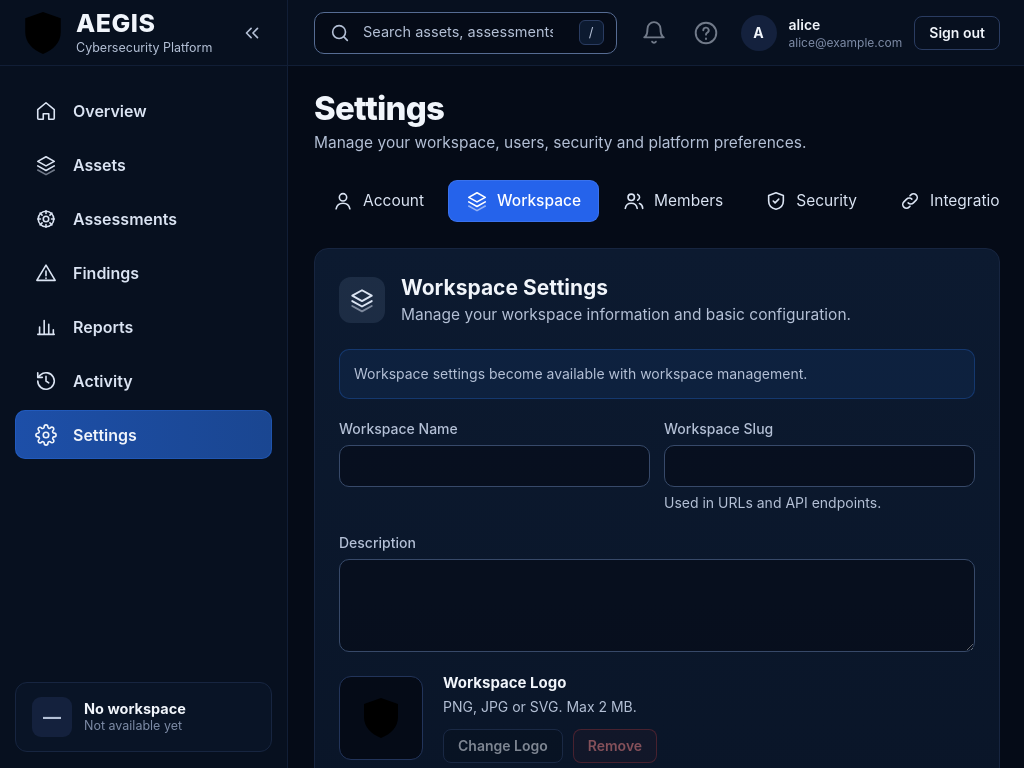
Scenario: profile › rejects an invalid username before sending anything
This screenshot has width=1024, height=768.
Click the tab "Account": (378, 201) x1=314 y1=180 x2=442 y2=222
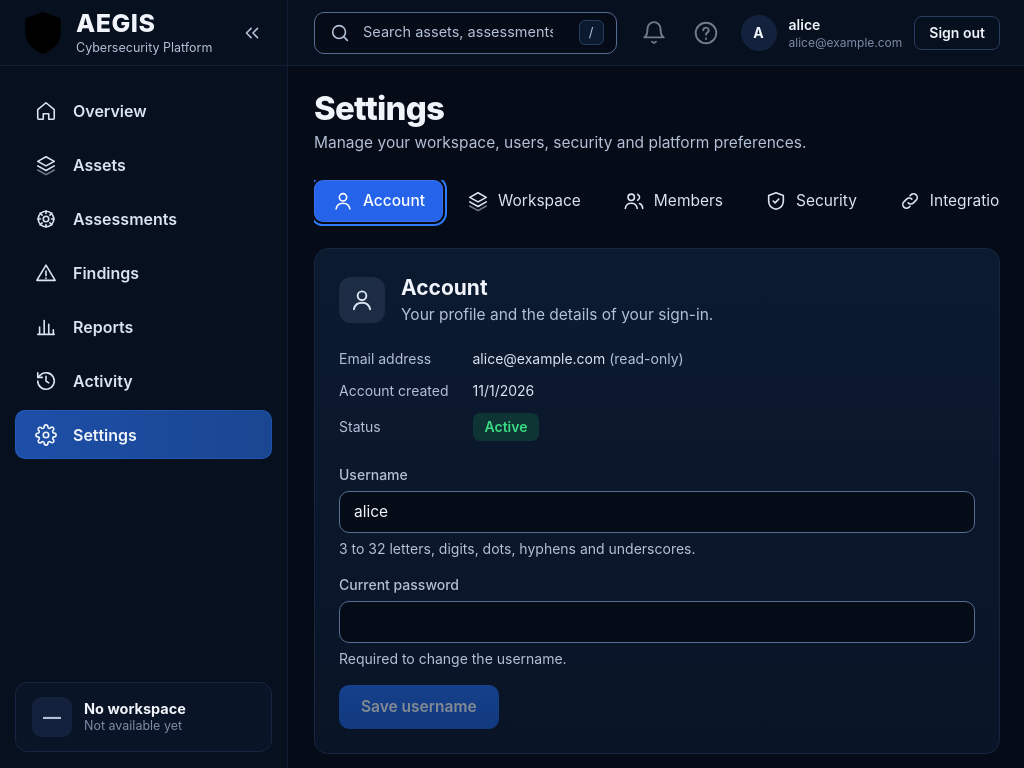
Replace the text in the field labelled "Username" with "a!": (657, 512) x1=339 y1=491 x2=975 y2=533
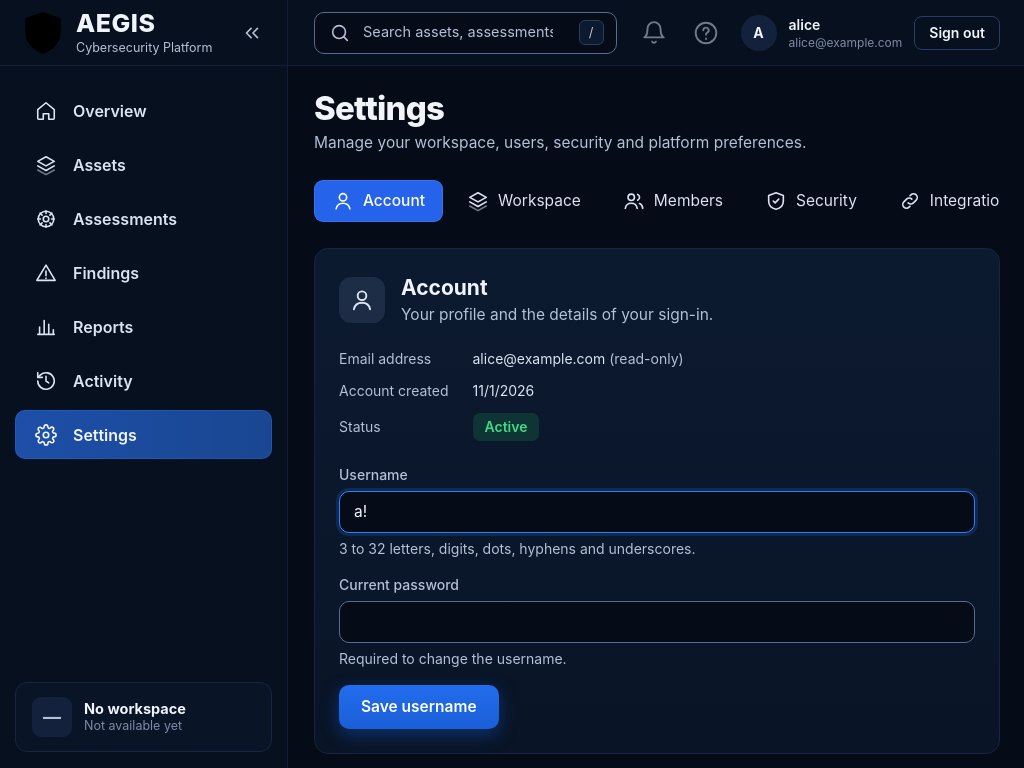
In the password field labelled "Current password": (657, 622) x1=339 y1=601 x2=975 y2=643, type "correct horse battery staple"
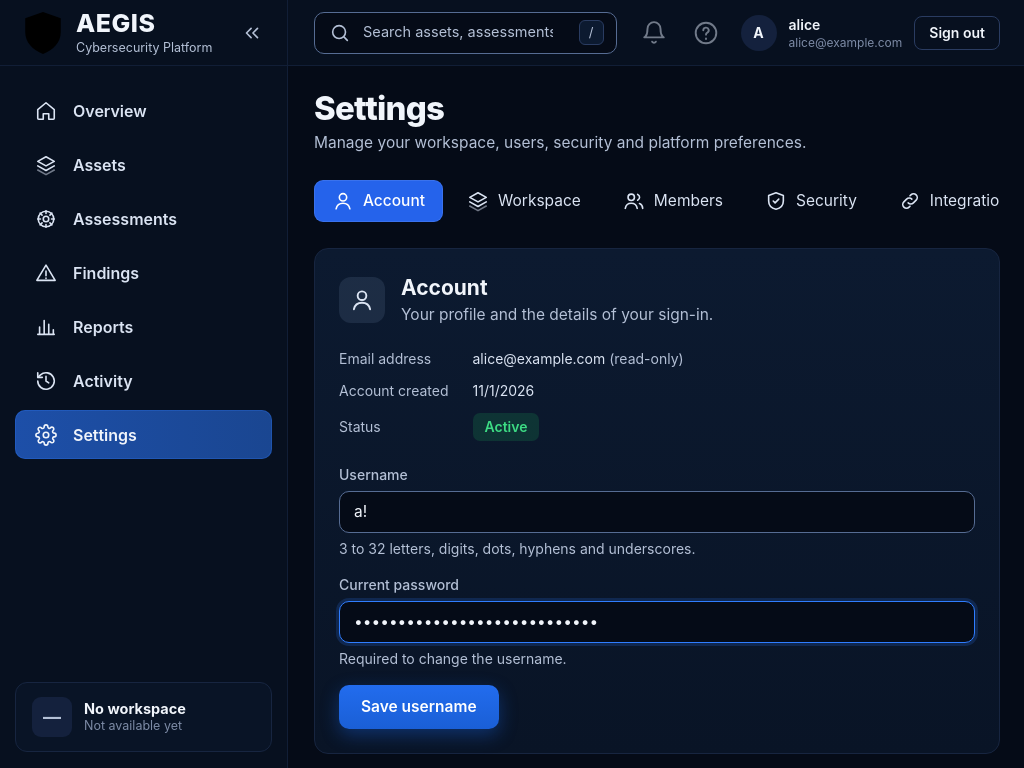
Click the button "Save username": (419, 707) x1=339 y1=685 x2=499 y2=729
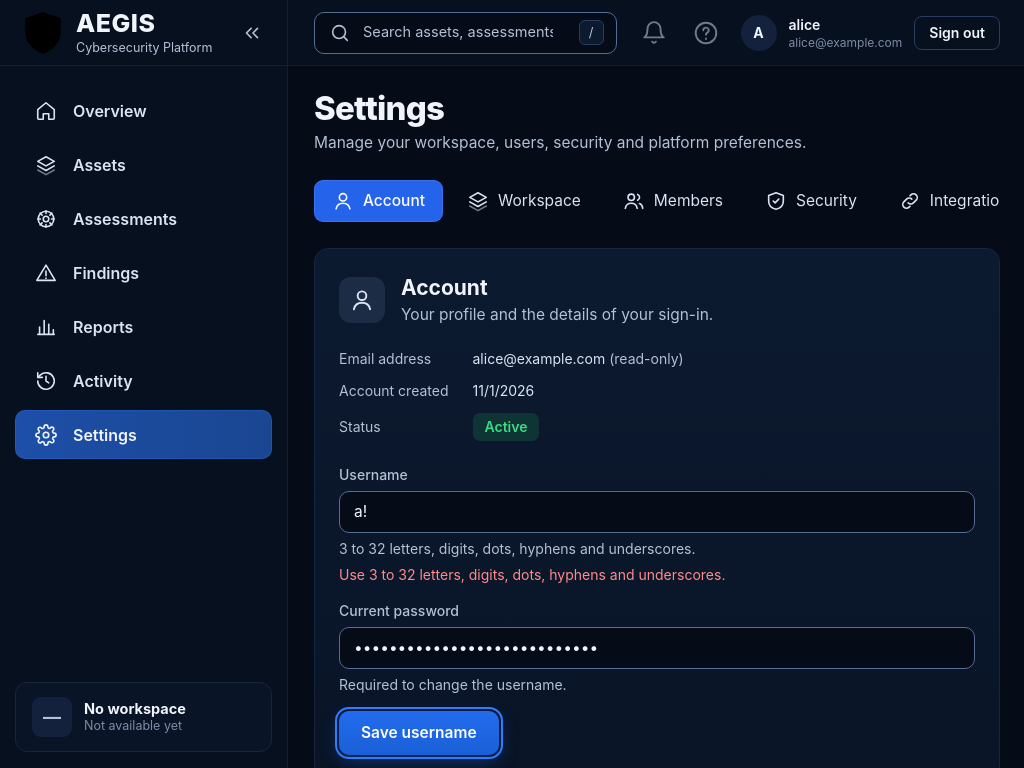
Result: the text "Use 3 to 32 letters, digits, dots, hyphens and underscores." is shown at x1=339 y1=566 x2=725 y2=583
